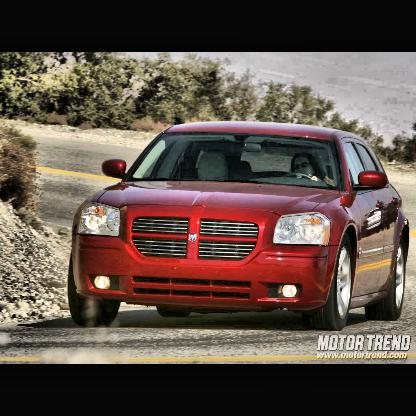Dodge Magnum Wagon 2008: (66, 122, 410, 330)
